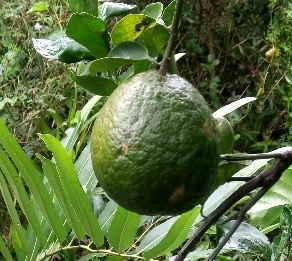Cam: (86, 69, 228, 218)
